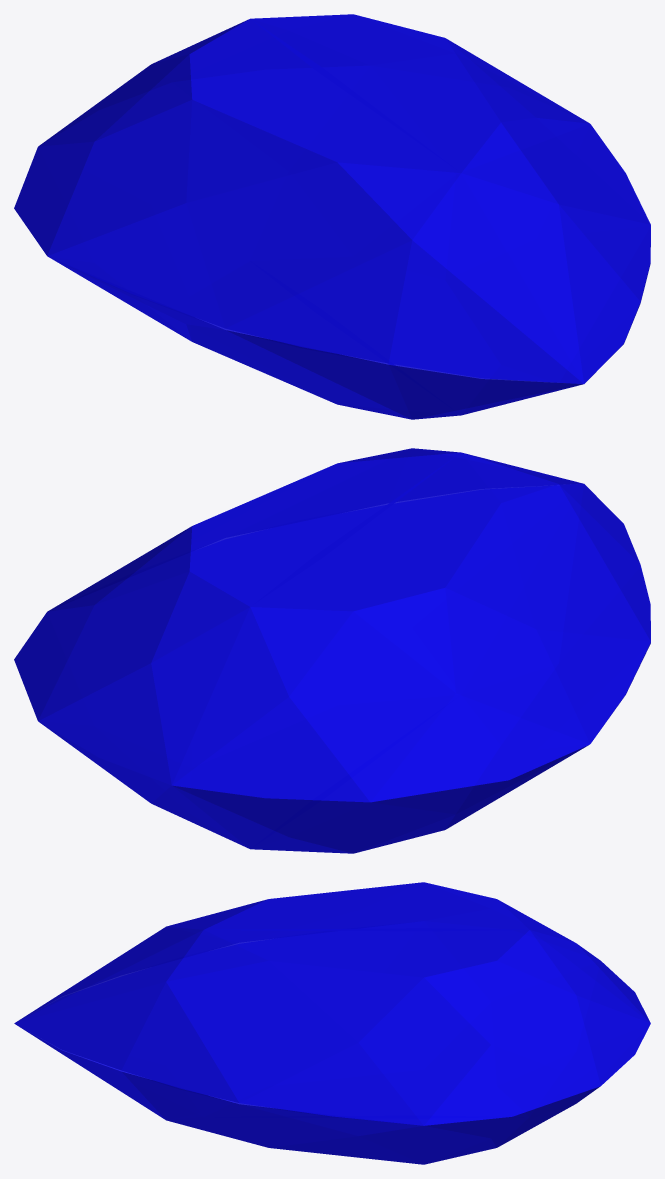
Rendered from PearJem2.glb.
The picture shows the model from 3 angles, top to bottom: view 1: azimuth 30°, elevation 25°; view 2: azimuth 150°, elevation 25°; view 3: azimuth 270°, elevation 25°; orthographic projection. The views are drawn at different scales.
Visible parts, largest first — view 1: Pear jem; view 2: Pear jem; view 3: Pear jem.
Part boxes in pixels (x1=…): Pear jem: x1=14, y1=14, x2=650, y2=419; Pear jem: x1=14, y1=448, x2=650, y2=853; Pear jem: x1=14, y1=882, x2=650, y2=1164.
Bounding box in the file's own units: 4.69 × 2 × 6.17.
